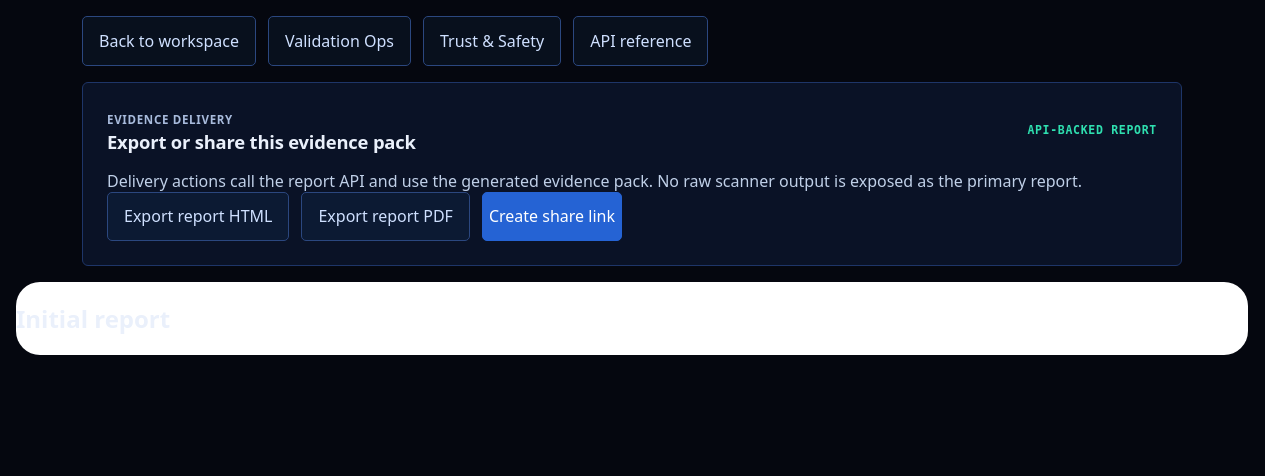
Test: SnapshotReportView › keeps the report visible when report delivery fails
Check: the heading "Initial report" is shown, box [16,302,170,335]
Click the button "Export report HTML" at (198, 216), box [107,192,290,241]
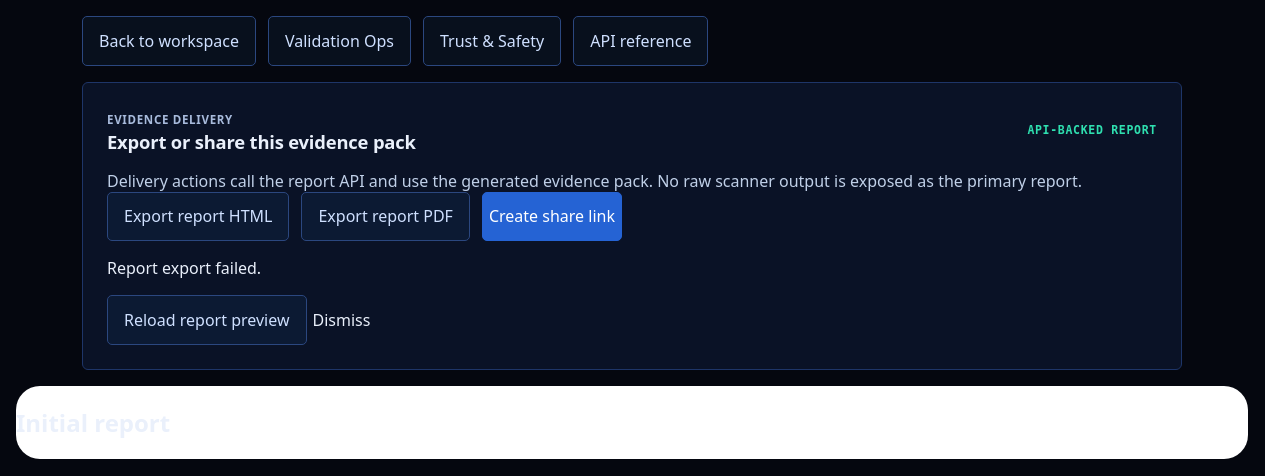
Check: the heading "Initial report" is shown, box [16,406,170,439]
Check: the message "Report export failed. Reload report preview Dismiss" is shown, box [107,257,376,345]
Click the button "Reload report preview" at (207, 320), box [107,295,306,345]
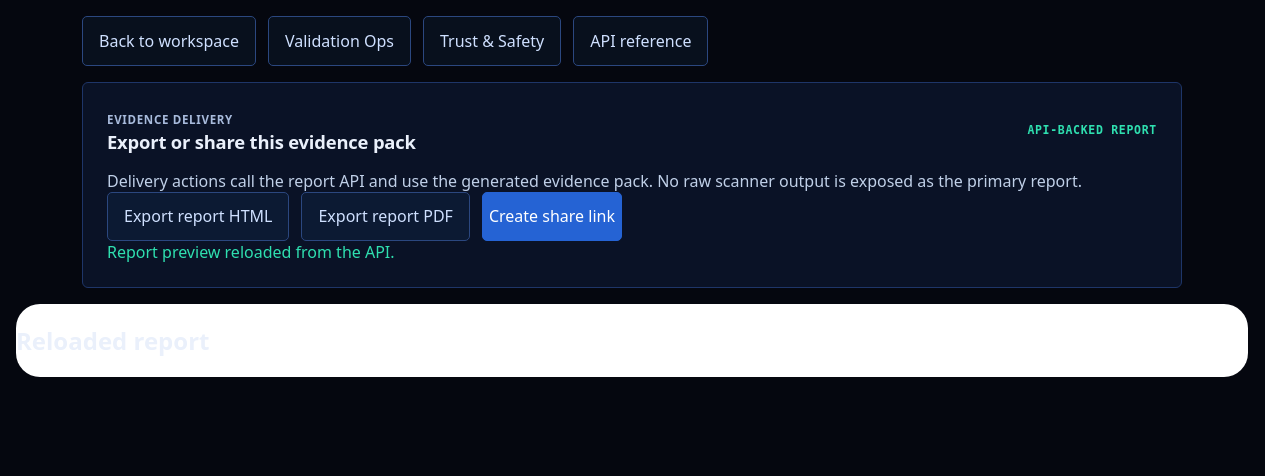
Check: the heading "Reloaded report" is shown, box [16,324,210,357]
Check: the text "Report preview reloaded from the API." is shown, box [107,241,395,263]
Check: the message "Report export failed. Reload report preview Dismiss" is gone
